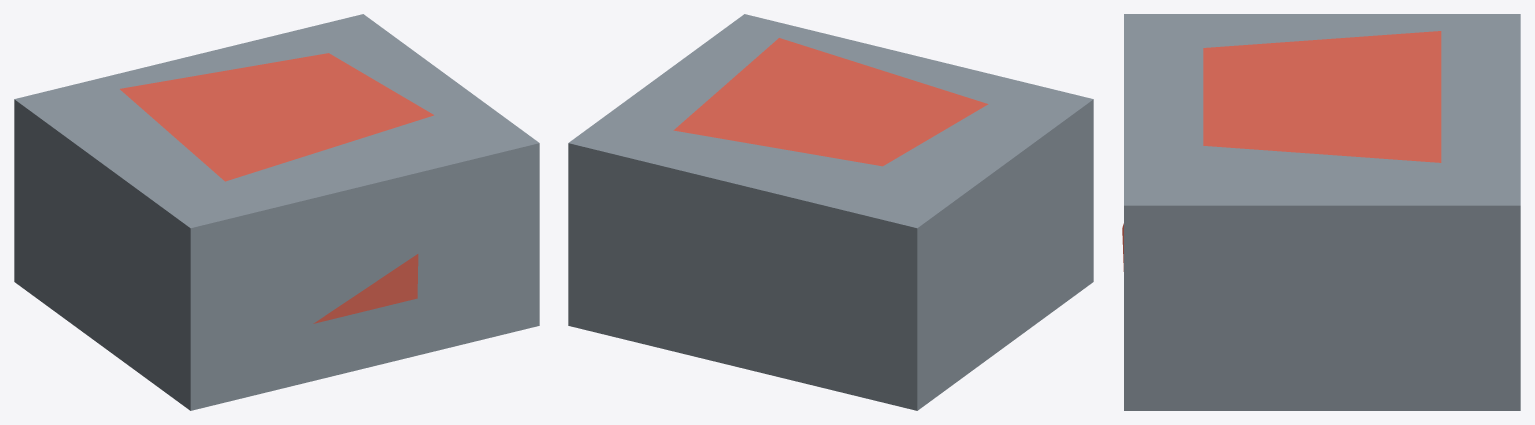
File: SU_MCV_MobileYard_LOD1.glb
The picture shows the model from 3 angles, left to right: view 1: azimuth 30°, elevation 25°; view 2: azimuth 150°, elevation 25°; view 3: azimuth 270°, elevation 25°; orthographic projection. The views are drawn at different scales.
Visible parts, largest first — view 1: EntranceGate; view 2: EntranceGate; view 3: EntranceGate.
Part boxes in pixels (box(x1,y1,x2,y2)): EntranceGate: box(14, 14, 539, 410); EntranceGate: box(568, 14, 1093, 410); EntranceGate: box(1122, 14, 1520, 410).
Size of the model in its own units: 800 by 442 by 703.
